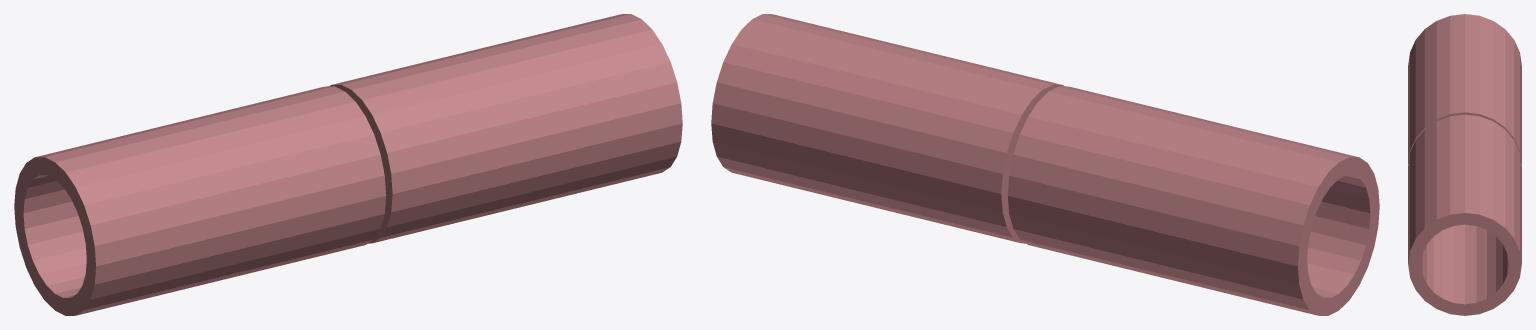
File: dranmar_rescue_bowel_aligned.glb
3 renders of one model, left to right at view 1: azimuth 30°, elevation 25°; view 2: azimuth 150°, elevation 25°; view 3: azimuth 270°, elevation 25°, orthographic. The views are drawn at different scales.
Parts seen in each view (by area): view 1: Proximal, Distal; view 2: Proximal, Distal; view 3: Distal, Proximal.
Boxes of the visible parts, x1,y1,x2,y2 form: Proximal: (14,86,386,315); Distal: (329,14,682,243); Proximal: (1007,86,1379,315); Distal: (711,14,1064,243); Distal: (1408,114,1521,315); Proximal: (1408,14,1521,163).
Bounding box in the file's own units: 0.182 × 0.044 × 0.044.
